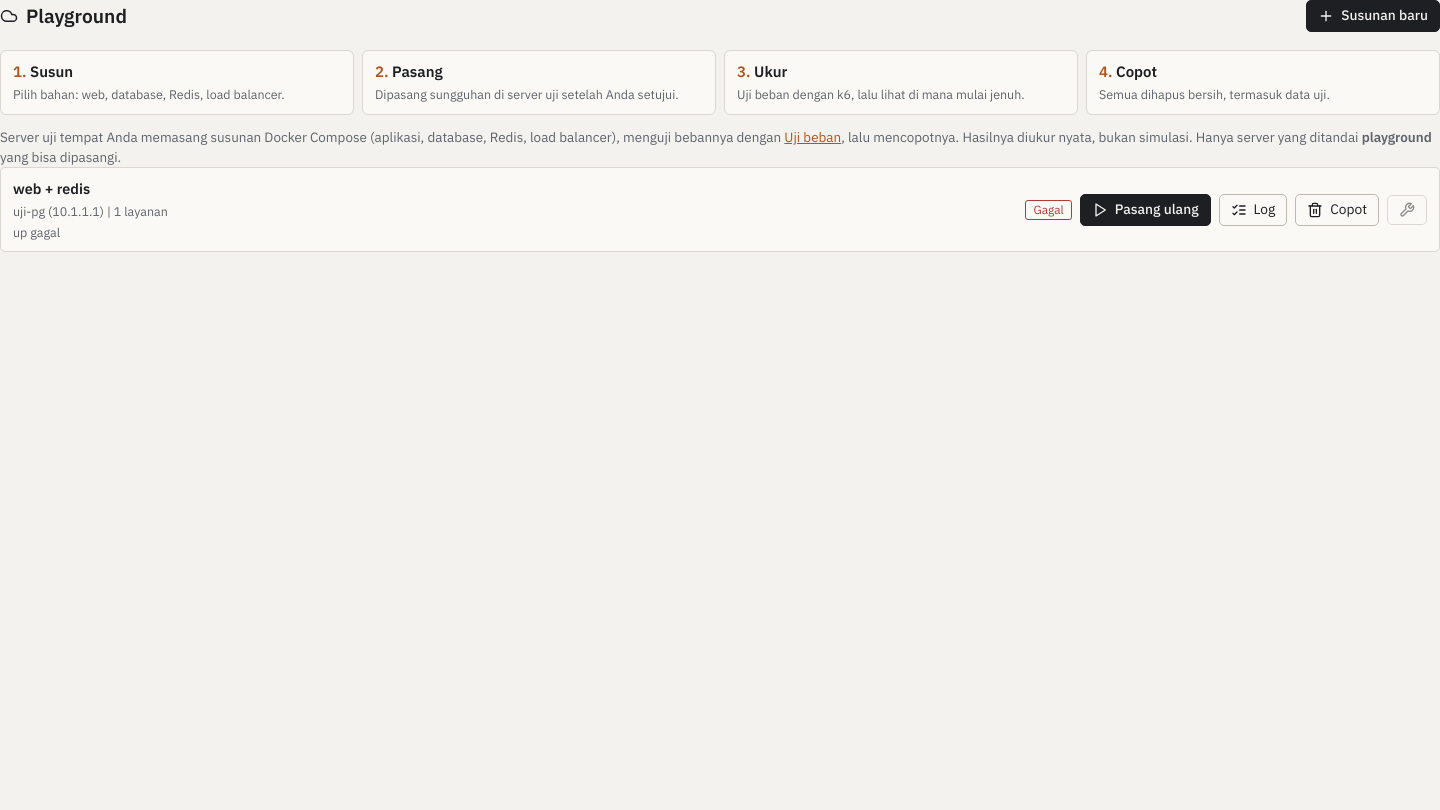
PlaygroundPage › Log untuk susunan yang gagal menampilkan keluaran pemasangan
The image size is (1440, 810).
Click the button "Log".
click(1253, 210)  # box [1218,194,1287,226]
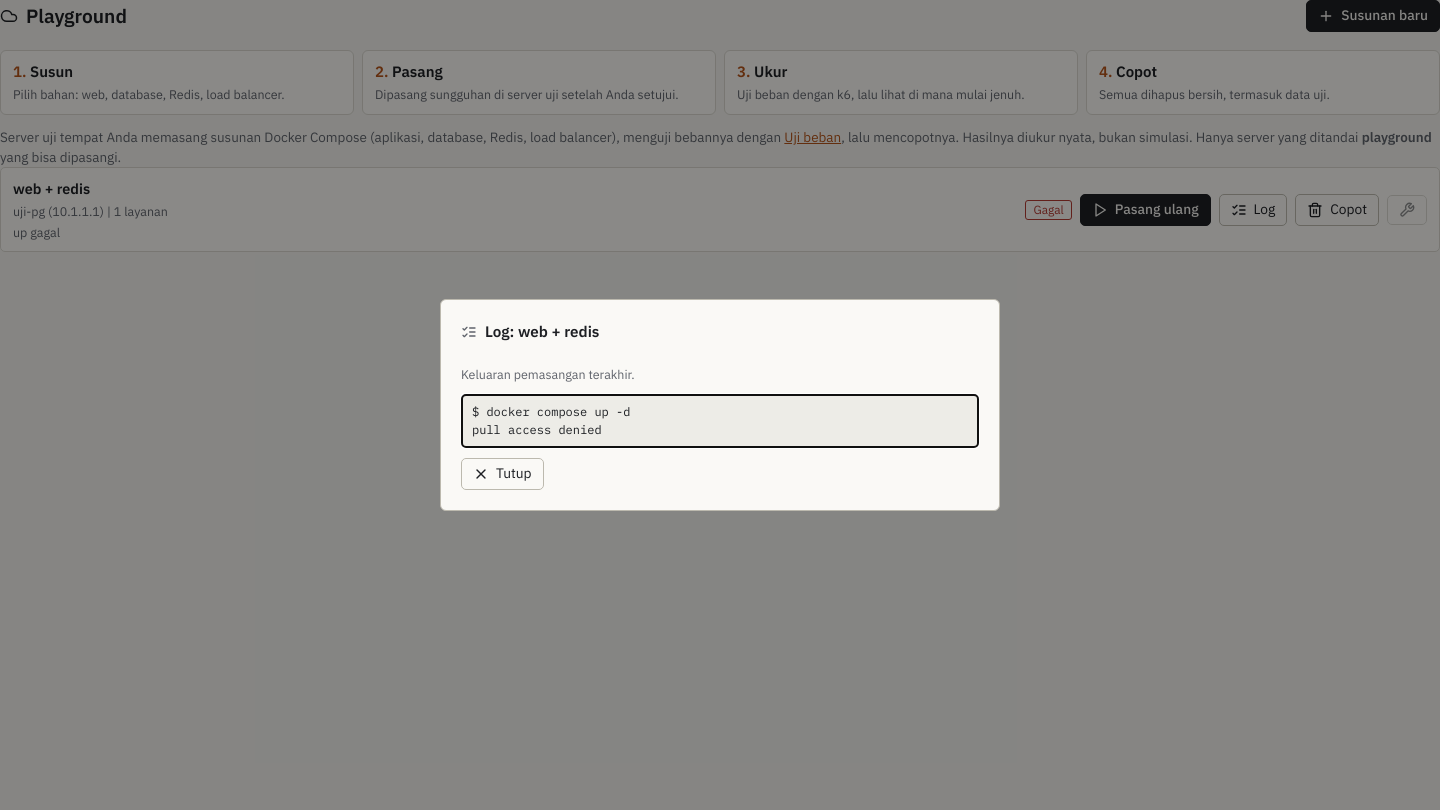
Expected: the text "$ docker compose up -d pull access denied" is shown, [461,394,979,448]
